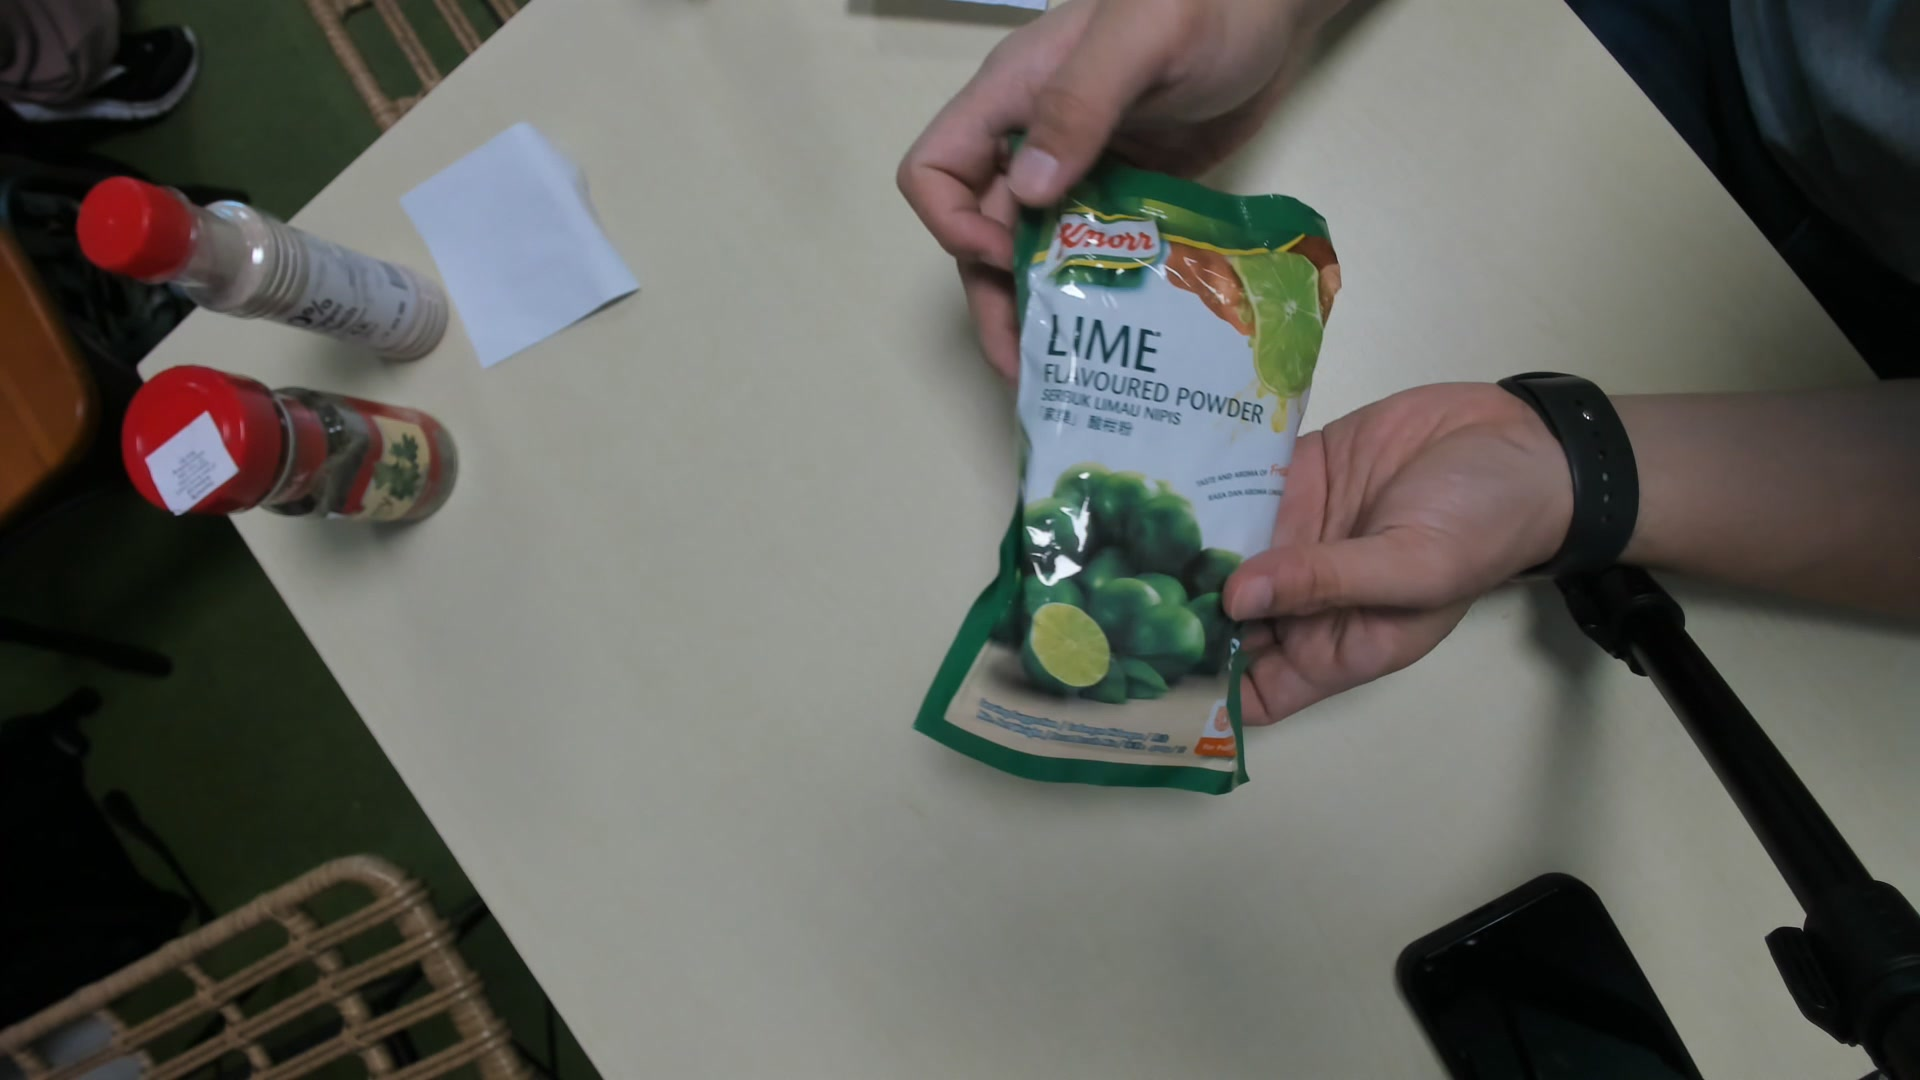HerbsSpicesPepper_400-499g_Halal_NonHealthy: (947, 167, 1328, 789)
